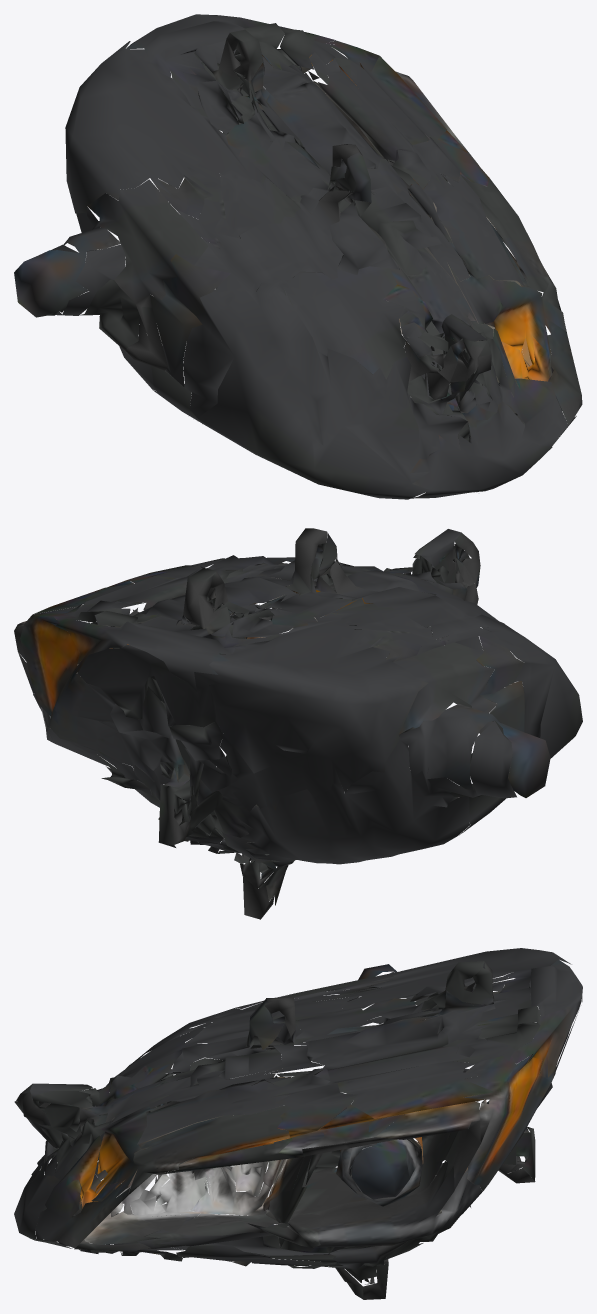
Rendered from imprezka_headlight.glb.
3 views of the same model, one above another, from view 1: azimuth 30°, elevation 25°; view 2: azimuth 150°, elevation 25°; view 3: azimuth 270°, elevation 25° (orthographic). The views are drawn at different scales.
Parts seen in each view (by area): view 1: tripo_node_9c43fa20-b149-4be3-afac-7ca0d61a01ef; view 2: tripo_node_9c43fa20-b149-4be3-afac-7ca0d61a01ef; view 3: tripo_node_9c43fa20-b149-4be3-afac-7ca0d61a01ef.
Part boxes in pixels (bbox=[...]): tripo_node_9c43fa20-b149-4be3-afac-7ca0d61a01ef: bbox=[14, 14, 582, 499]; tripo_node_9c43fa20-b149-4be3-afac-7ca0d61a01ef: bbox=[14, 528, 582, 919]; tripo_node_9c43fa20-b149-4be3-afac-7ca0d61a01ef: bbox=[14, 948, 582, 1299].
Bounding box in the file's own units: 0.823 × 0.648 × 1.
Materials: 1 (1 with a texture image).
